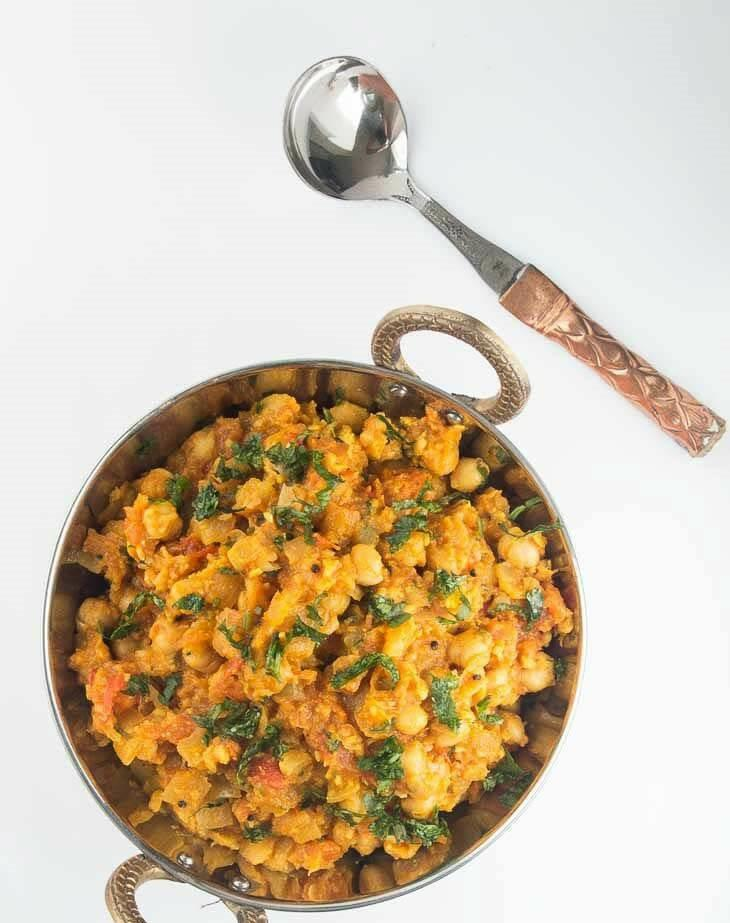Chole: (71, 393, 578, 874)
